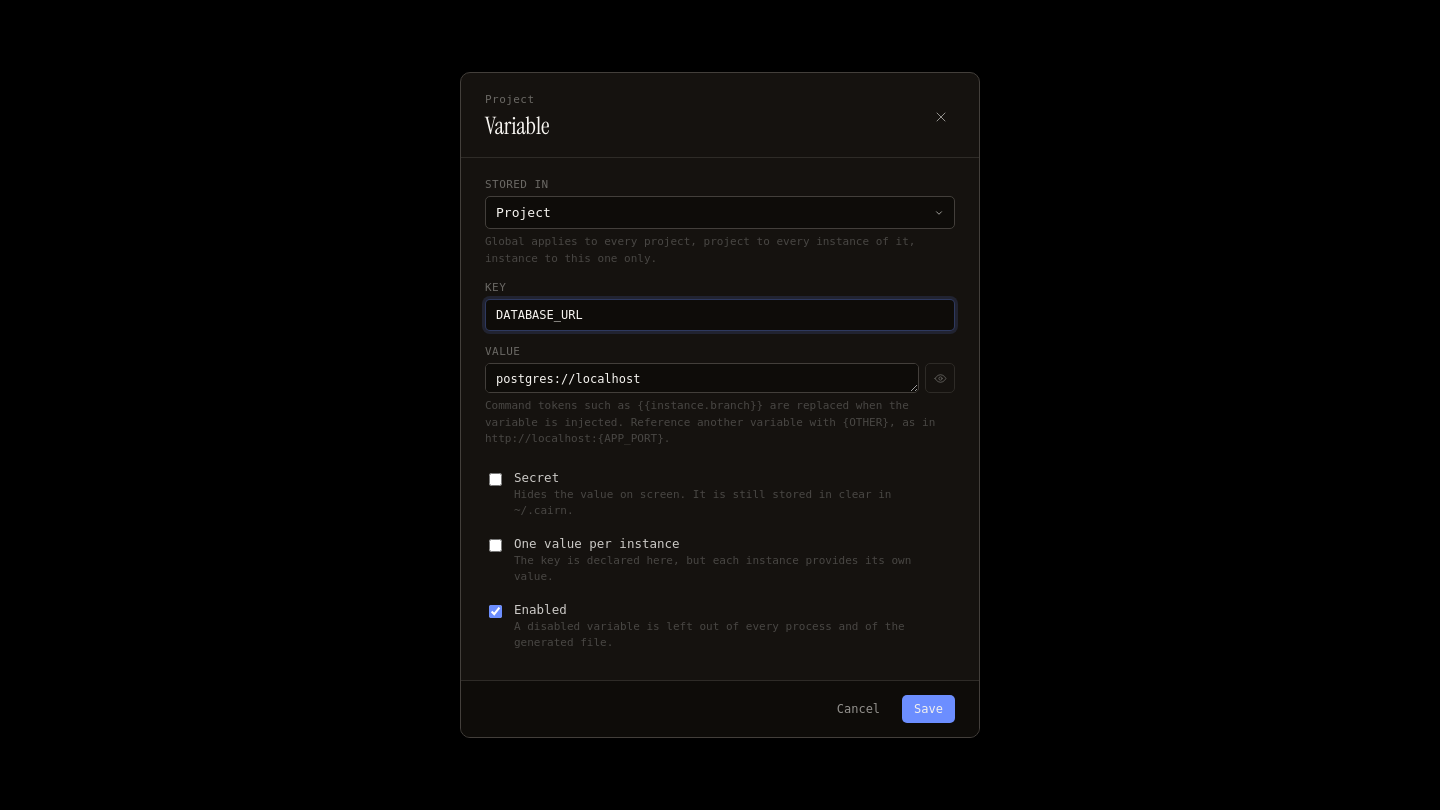
Test: EnvEditor › the key it accepts › clears the error once the key is fixed
This screenshot has width=1440, height=810.
Type "1BAD" into the field with class "mono" showing "Key" at coordinates (720, 315), box [485,299,955,331]
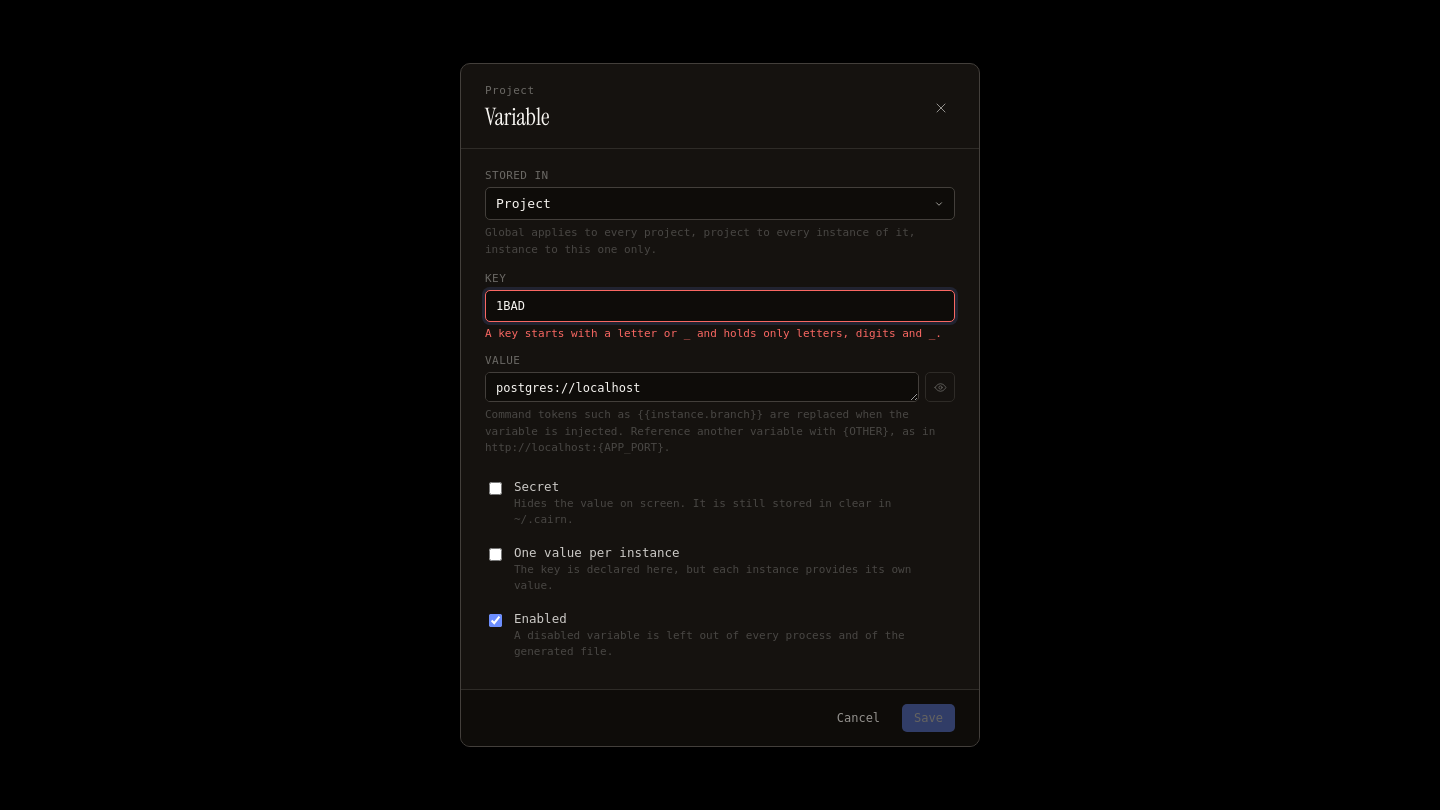
Expected: the element with class "ee-error" does not show ""
Clear the 1st field with class "mono" at coordinates (720, 306), box [485,290,955,322]
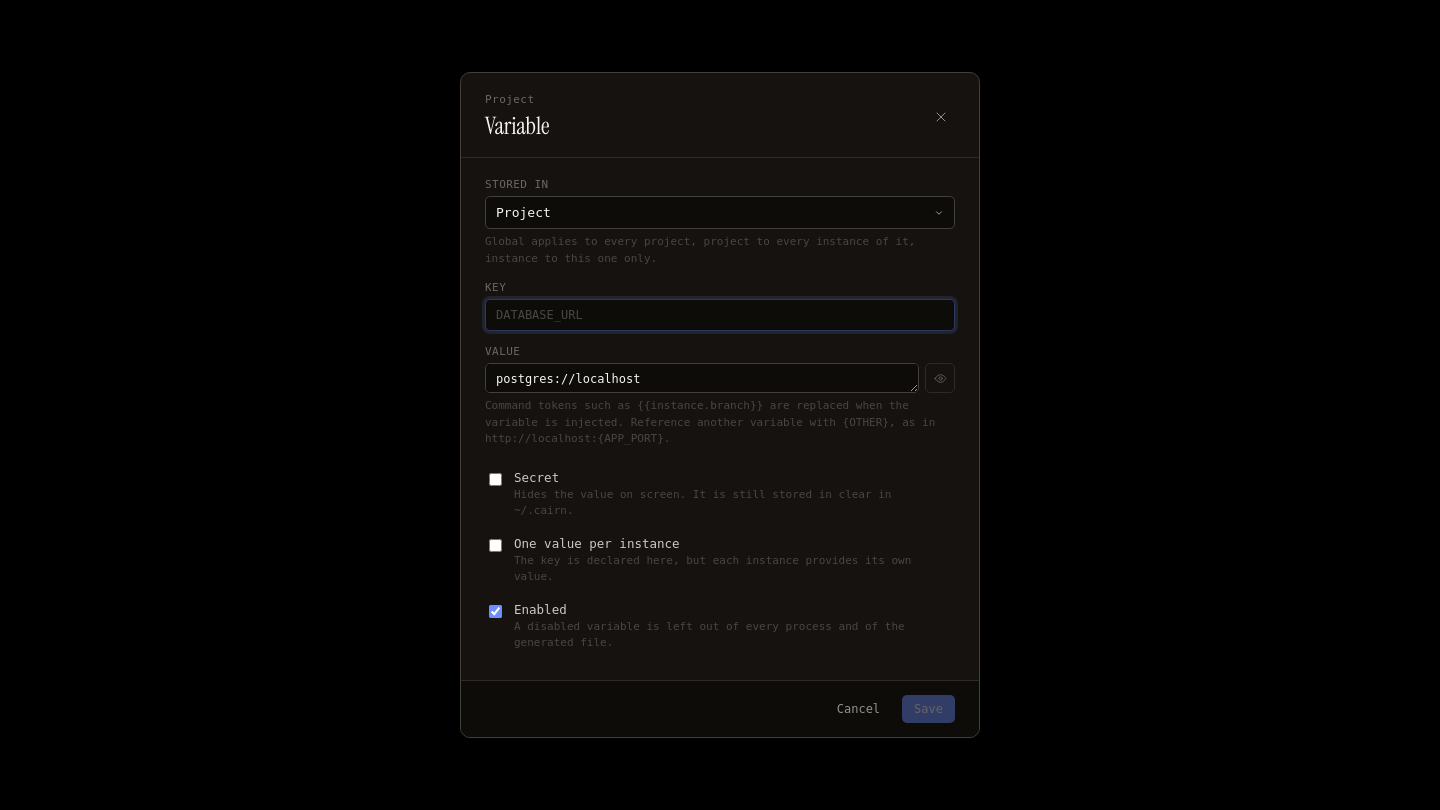
Type "GOOD" into the field with class "mono" showing "Key" at coordinates (720, 315), box [485,299,955,331]
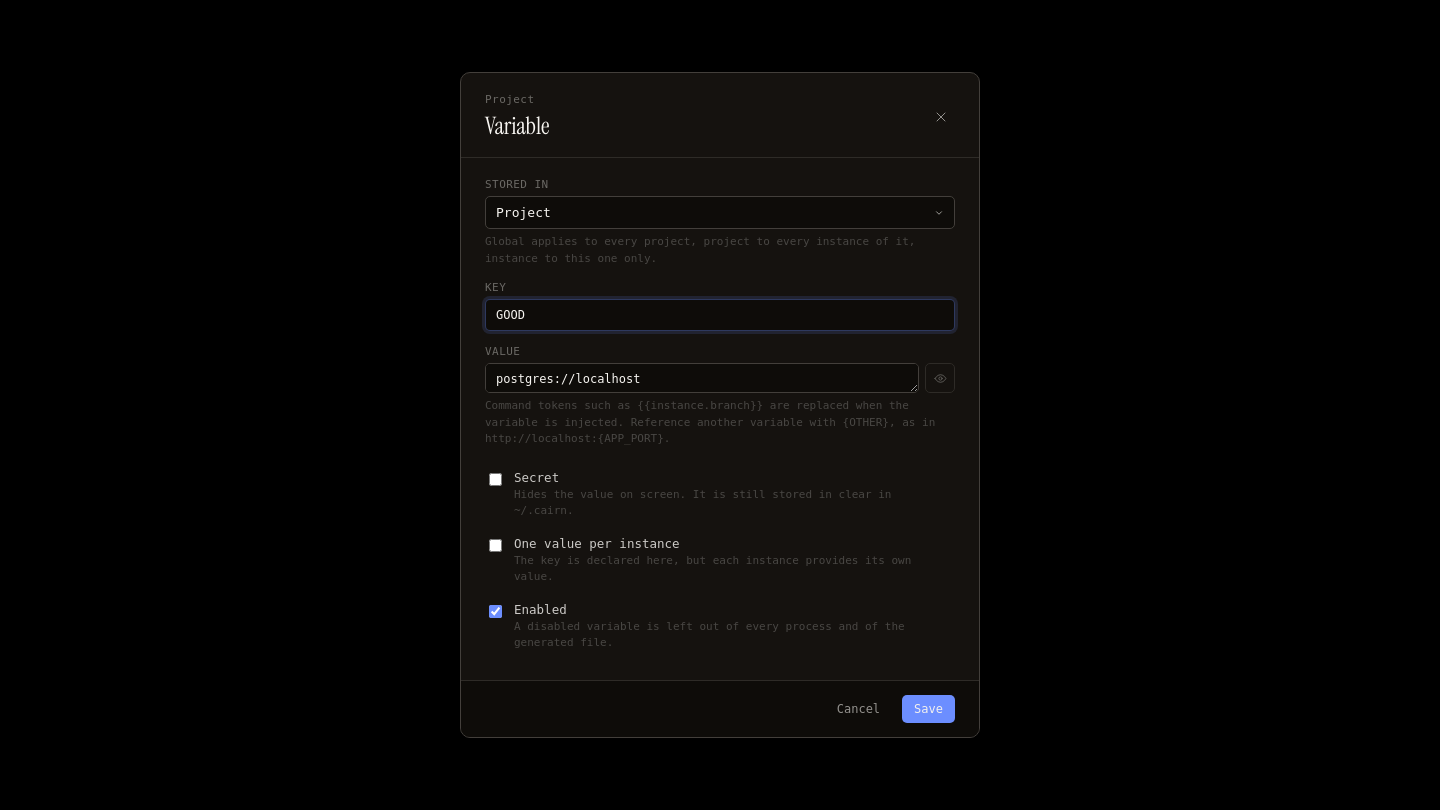
Now the button "Save" is enabled, box [902,695,955,723]
